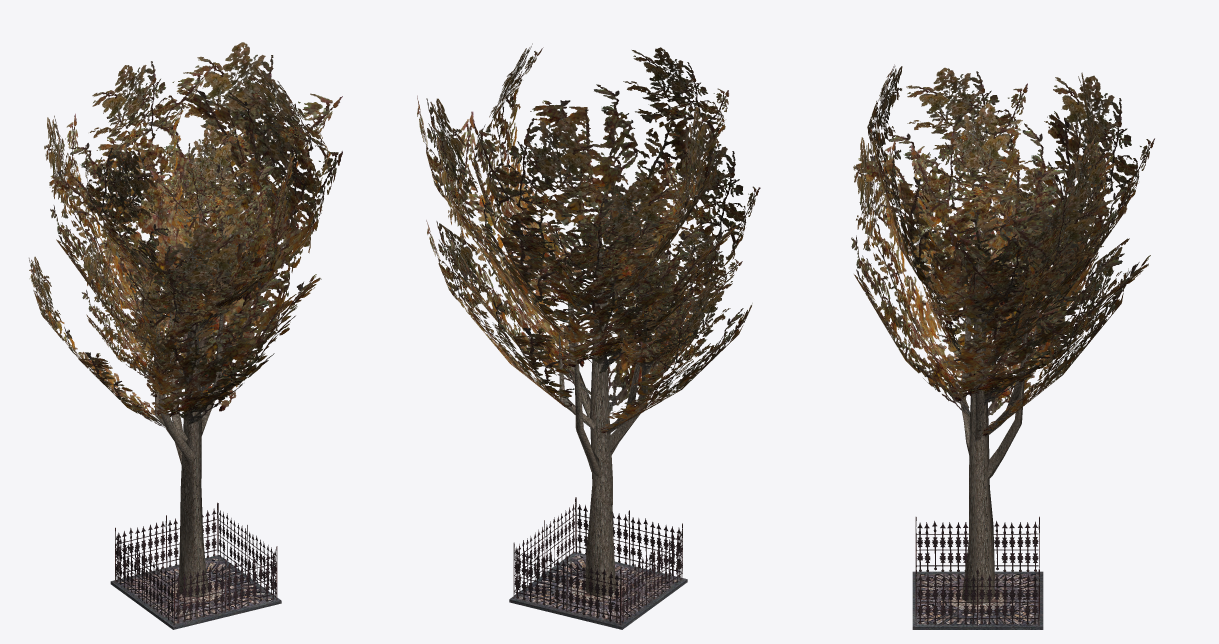
Rendered from tree_decid_med_basefence_leaf.fbx.
The picture shows the model from 3 angles, left to right: view 1: azimuth 30°, elevation 25°; view 2: azimuth 150°, elevation 25°; view 3: azimuth 270°, elevation 25°; orthographic projection. The views are drawn at different scales.
Visible parts, largest first — view 1: mesh_0, mesh_2, mesh_1, mesh_3; view 2: mesh_0, mesh_2, mesh_1, mesh_3; view 3: mesh_0, mesh_1, mesh_2, mesh_3.
Boxes of the visible parts, x1,y1,x2,y2 form: mesh_0: (29, 42, 342, 427); mesh_2: (115, 502, 277, 625); mesh_1: (154, 250, 223, 597); mesh_3: (110, 555, 281, 629); mesh_0: (417, 43, 760, 432); mesh_2: (513, 497, 682, 624); mesh_1: (558, 235, 647, 596); mesh_3: (509, 551, 687, 629); mesh_0: (851, 64, 1154, 435); mesh_1: (960, 244, 1037, 605); mesh_2: (915, 516, 1039, 625); mesh_3: (912, 571, 1043, 629).
Size of the model in its own units: 629 by 915 by 599.
Materials: 4 (4 with a texture image).
